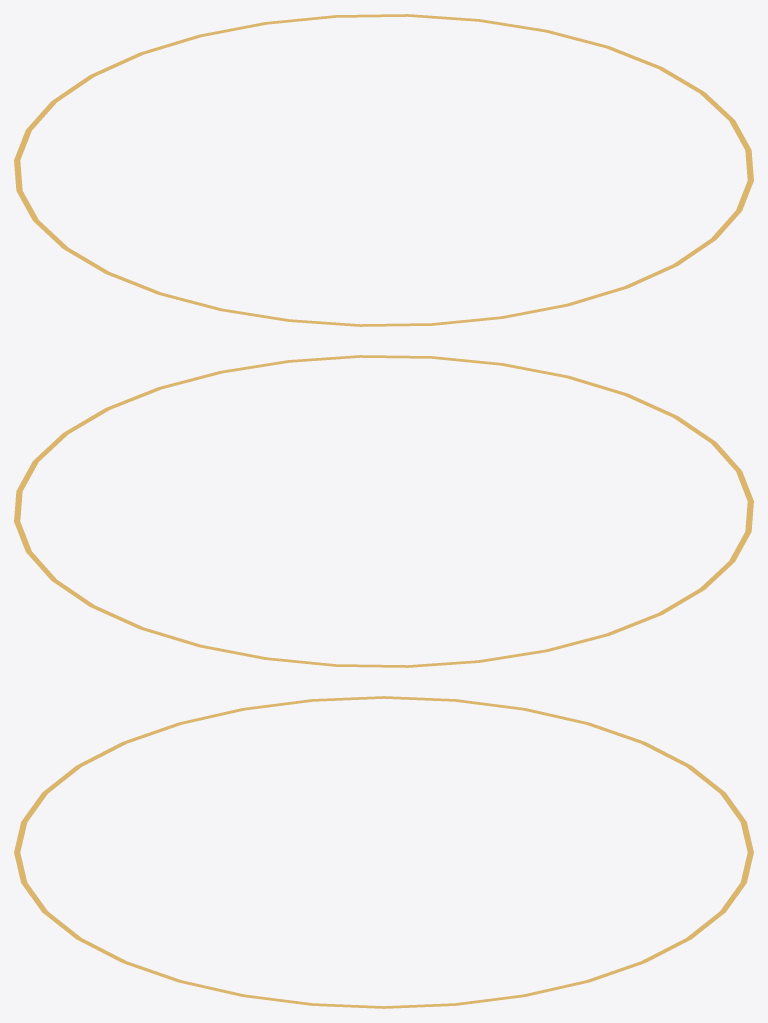
The model's file is BossSwingWarning.glb.
The picture shows the model from 3 angles, top to bottom: view 1: azimuth 30°, elevation 25°; view 2: azimuth 150°, elevation 25°; view 3: azimuth 270°, elevation 25°; orthographic projection.
Parts seen in each view (by area): view 1: BossSwingWarning; view 2: BossSwingWarning; view 3: BossSwingWarning.
Boxes of the visible parts, x1,y1,x2,y2 form: BossSwingWarning: (14,14,753,326); BossSwingWarning: (14,355,753,667); BossSwingWarning: (14,696,753,1008).
Size of the model in its own units: 7.6 by 0 by 7.6.
